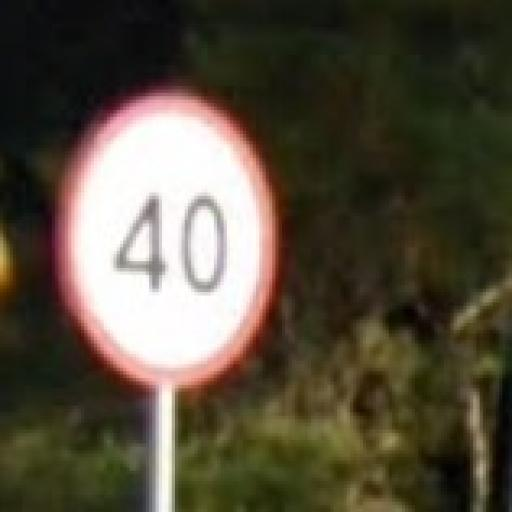traffic_sign: (56, 94, 280, 393)
